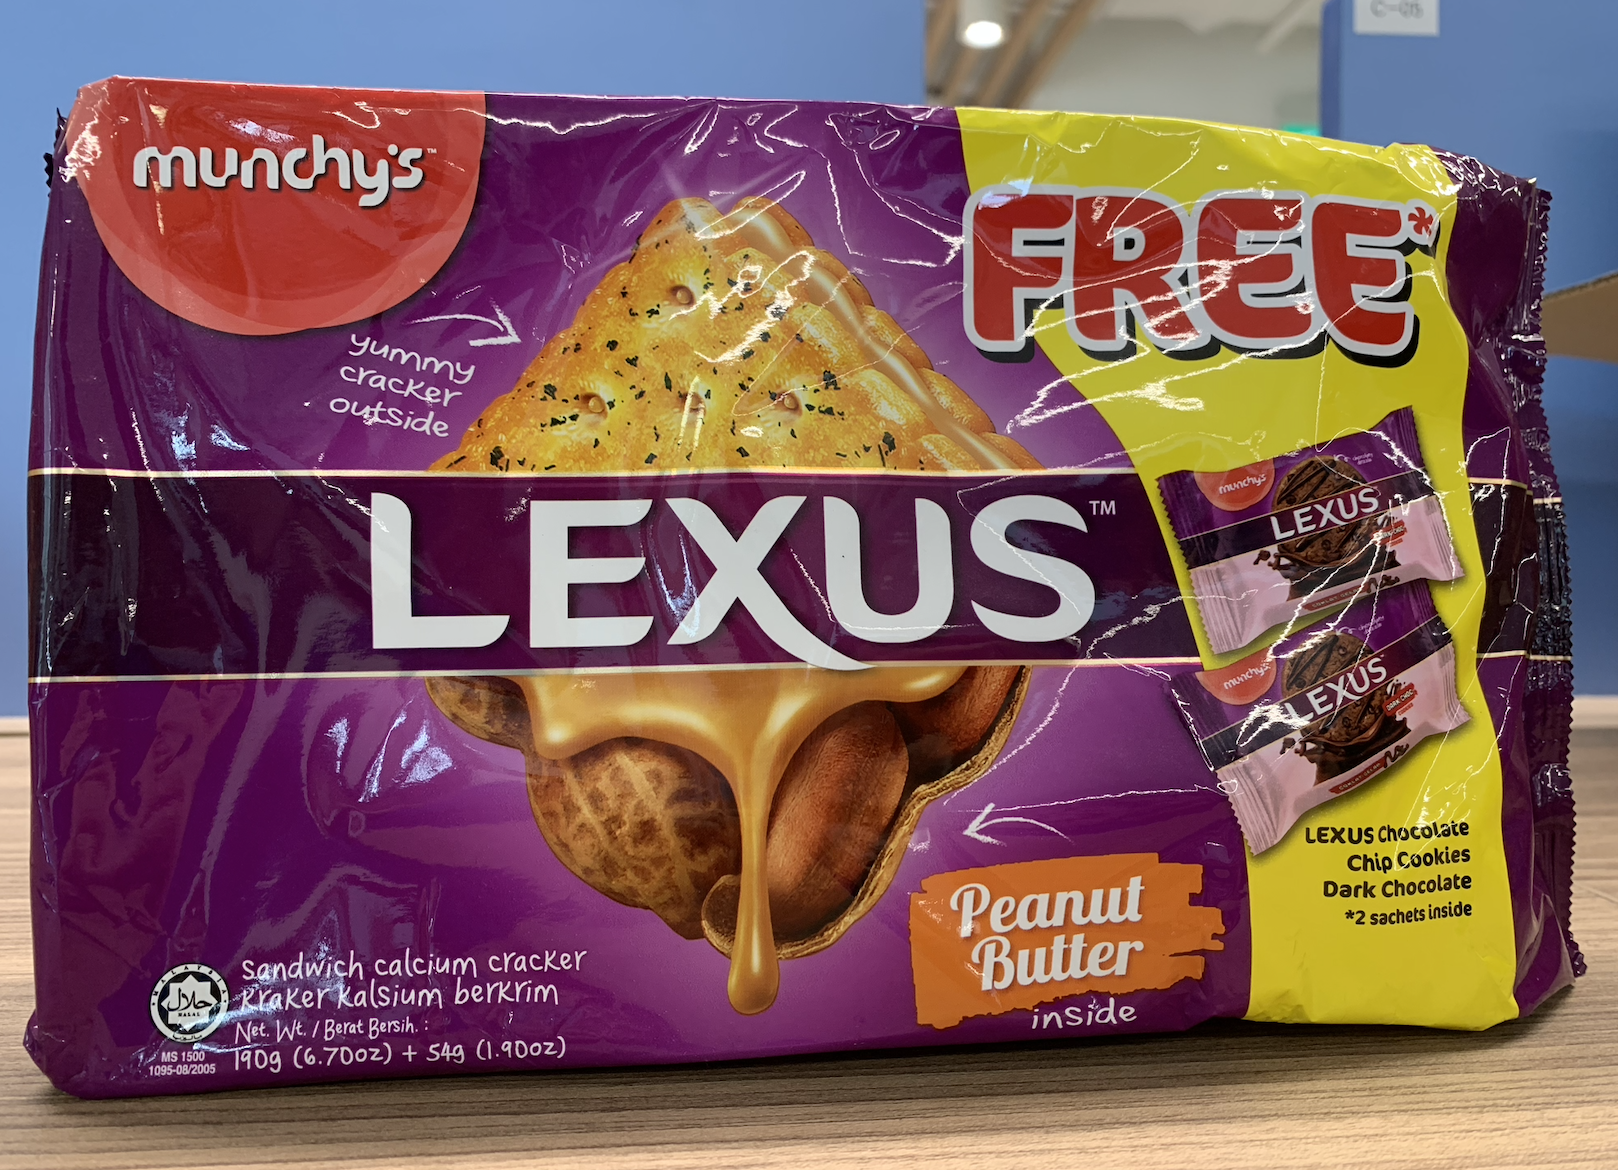cookies_100g-199g: (137, 131, 1333, 1046)
